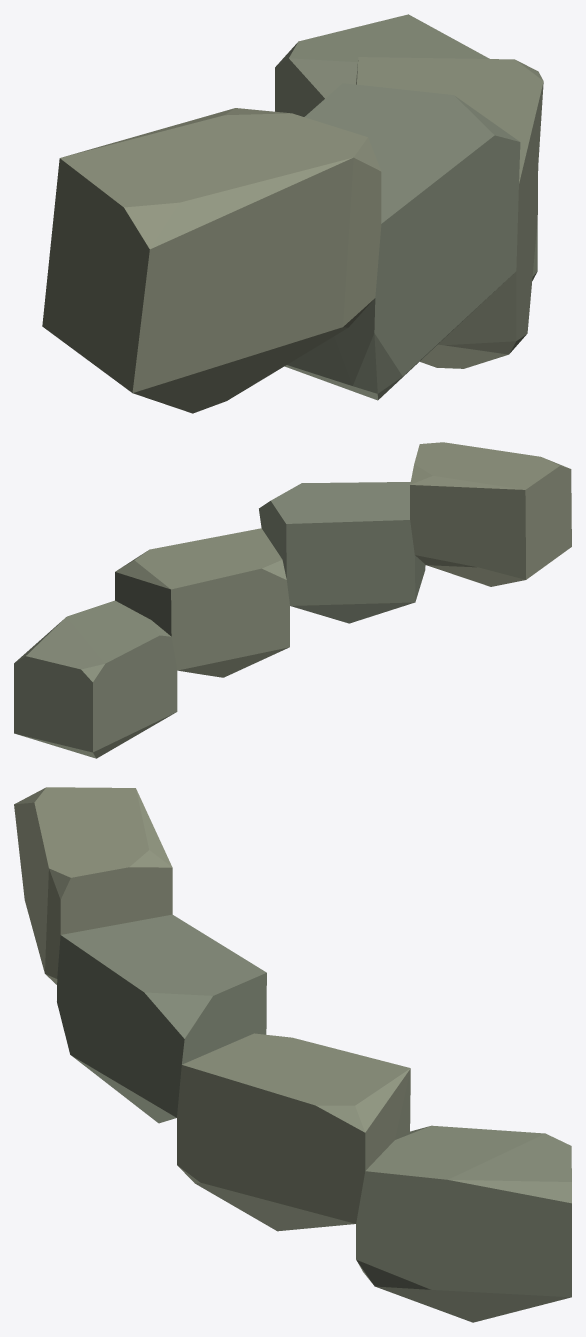
Rendered from stair_spiral_railing_low_clock.fbx.
3 renders of one model, top to bottom at view 1: azimuth 30°, elevation 25°; view 2: azimuth 150°, elevation 25°; view 3: azimuth 270°, elevation 25°, orthographic. The views are drawn at different scales.
Visible parts, largest first — view 1: stair_spiral_railing_low_clock; view 2: stair_spiral_railing_low_clock; view 3: stair_spiral_railing_low_clock.
Boxes of the visible parts, x1,y1,x2,y2 form: stair_spiral_railing_low_clock: [42, 14, 543, 413]; stair_spiral_railing_low_clock: [14, 442, 571, 758]; stair_spiral_railing_low_clock: [14, 787, 571, 1322].
Size of the model in its own units: 225 by 152 by 229.
